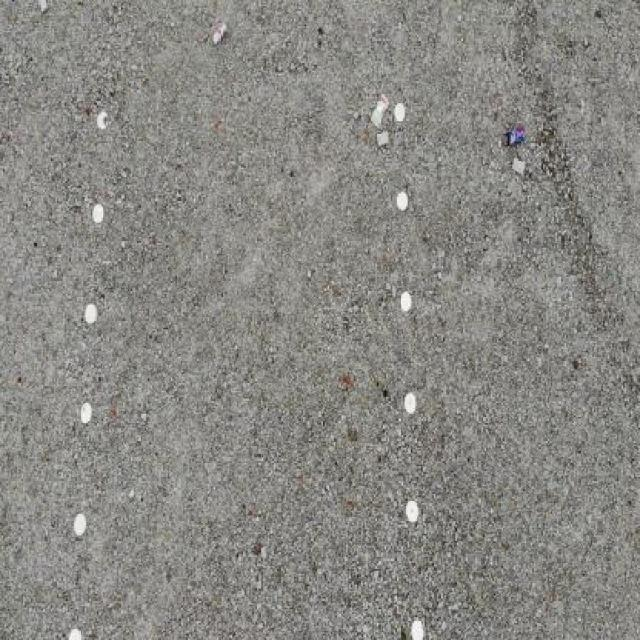Garbage: (370, 94, 391, 130), (504, 126, 525, 147), (210, 21, 229, 44), (511, 156, 526, 176), (377, 130, 390, 145), (38, 0, 47, 12)
